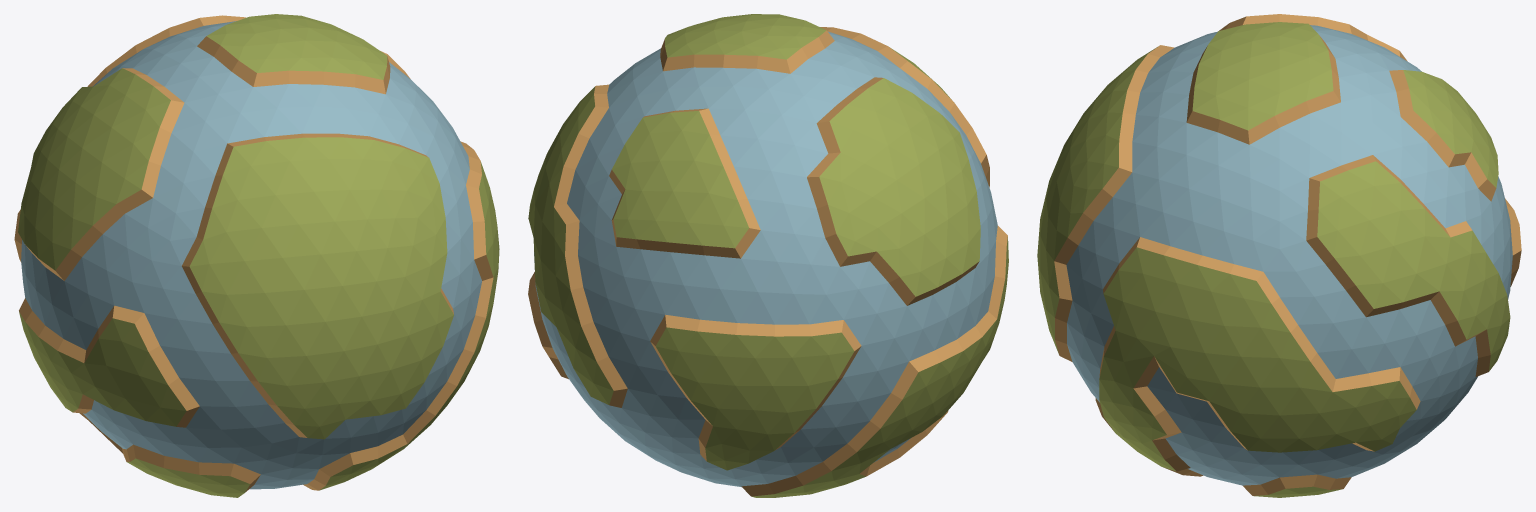
The model's file is world-b.fbx.
3 views of the same model, side by side, from view 1: azimuth 30°, elevation 25°; view 2: azimuth 150°, elevation 25°; view 3: azimuth 270°, elevation 25° (orthographic).
Parts seen in each view (by area): view 1: Icosphere.001; view 2: Icosphere.001; view 3: Icosphere.001.
Boxes of the visible parts, x1,y1,x2,y2 form: Icosphere.001: (14,14,499,497); Icosphere.001: (528,14,1008,497); Icosphere.001: (1037,14,1521,497).
Size of the model in its own units: 1030 by 1033 by 1039.
